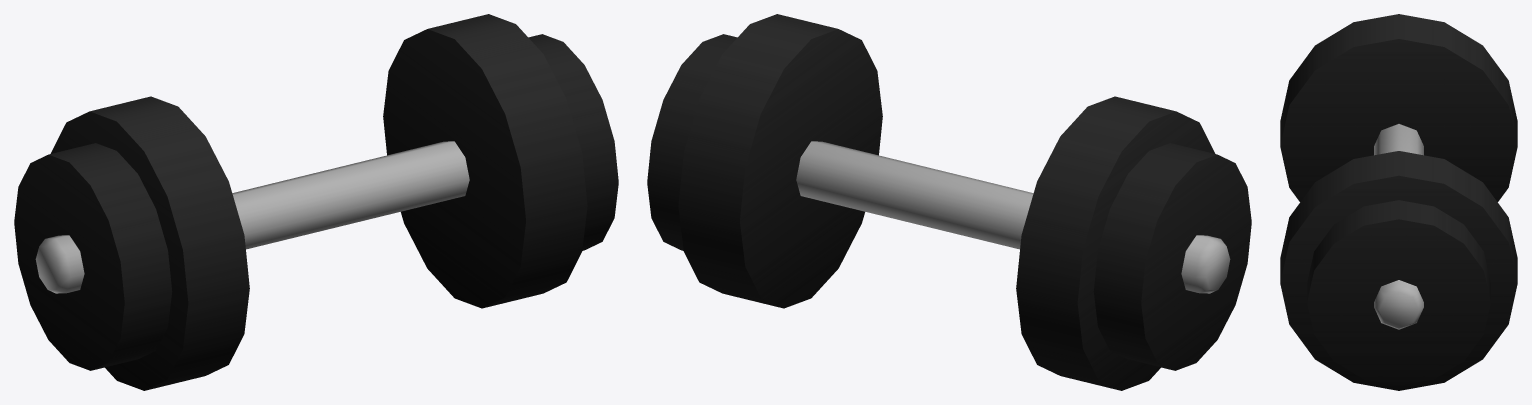
Rendered from SM_Gym_item_1.fbx.
3 renders of one model, left to right at view 1: azimuth 30°, elevation 25°; view 2: azimuth 150°, elevation 25°; view 3: azimuth 270°, elevation 25°, orthographic. The views are drawn at different scales.
Parts seen in each view (by area): view 1: SM_Gym_item_1; view 2: SM_Gym_item_1; view 3: SM_Gym_item_1.
Part boxes in pixels (left/top/right/bottom): SM_Gym_item_1: left=14, top=14, right=618, bottom=390; SM_Gym_item_1: left=647, top=14, right=1251, bottom=390; SM_Gym_item_1: left=1280, top=14, right=1517, bottom=390.
Size of the model in its own units: 51.86 by 24.02 by 24.02.
Materials: 1 (1 with a texture image).
